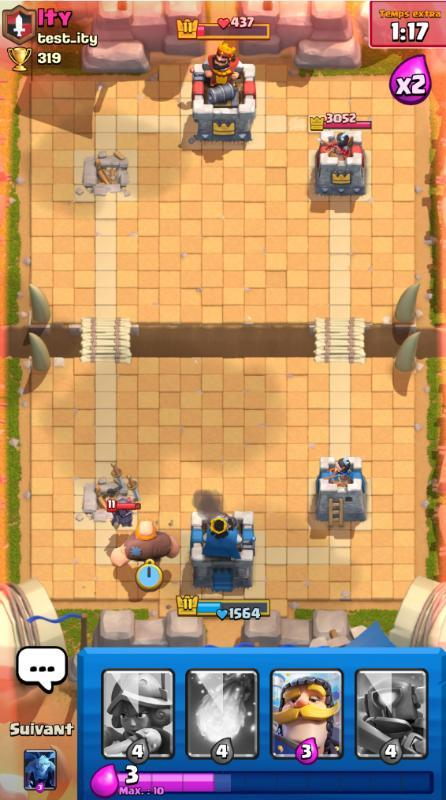mini_PEKKA: (110, 519, 180, 568), (106, 497, 141, 531)
